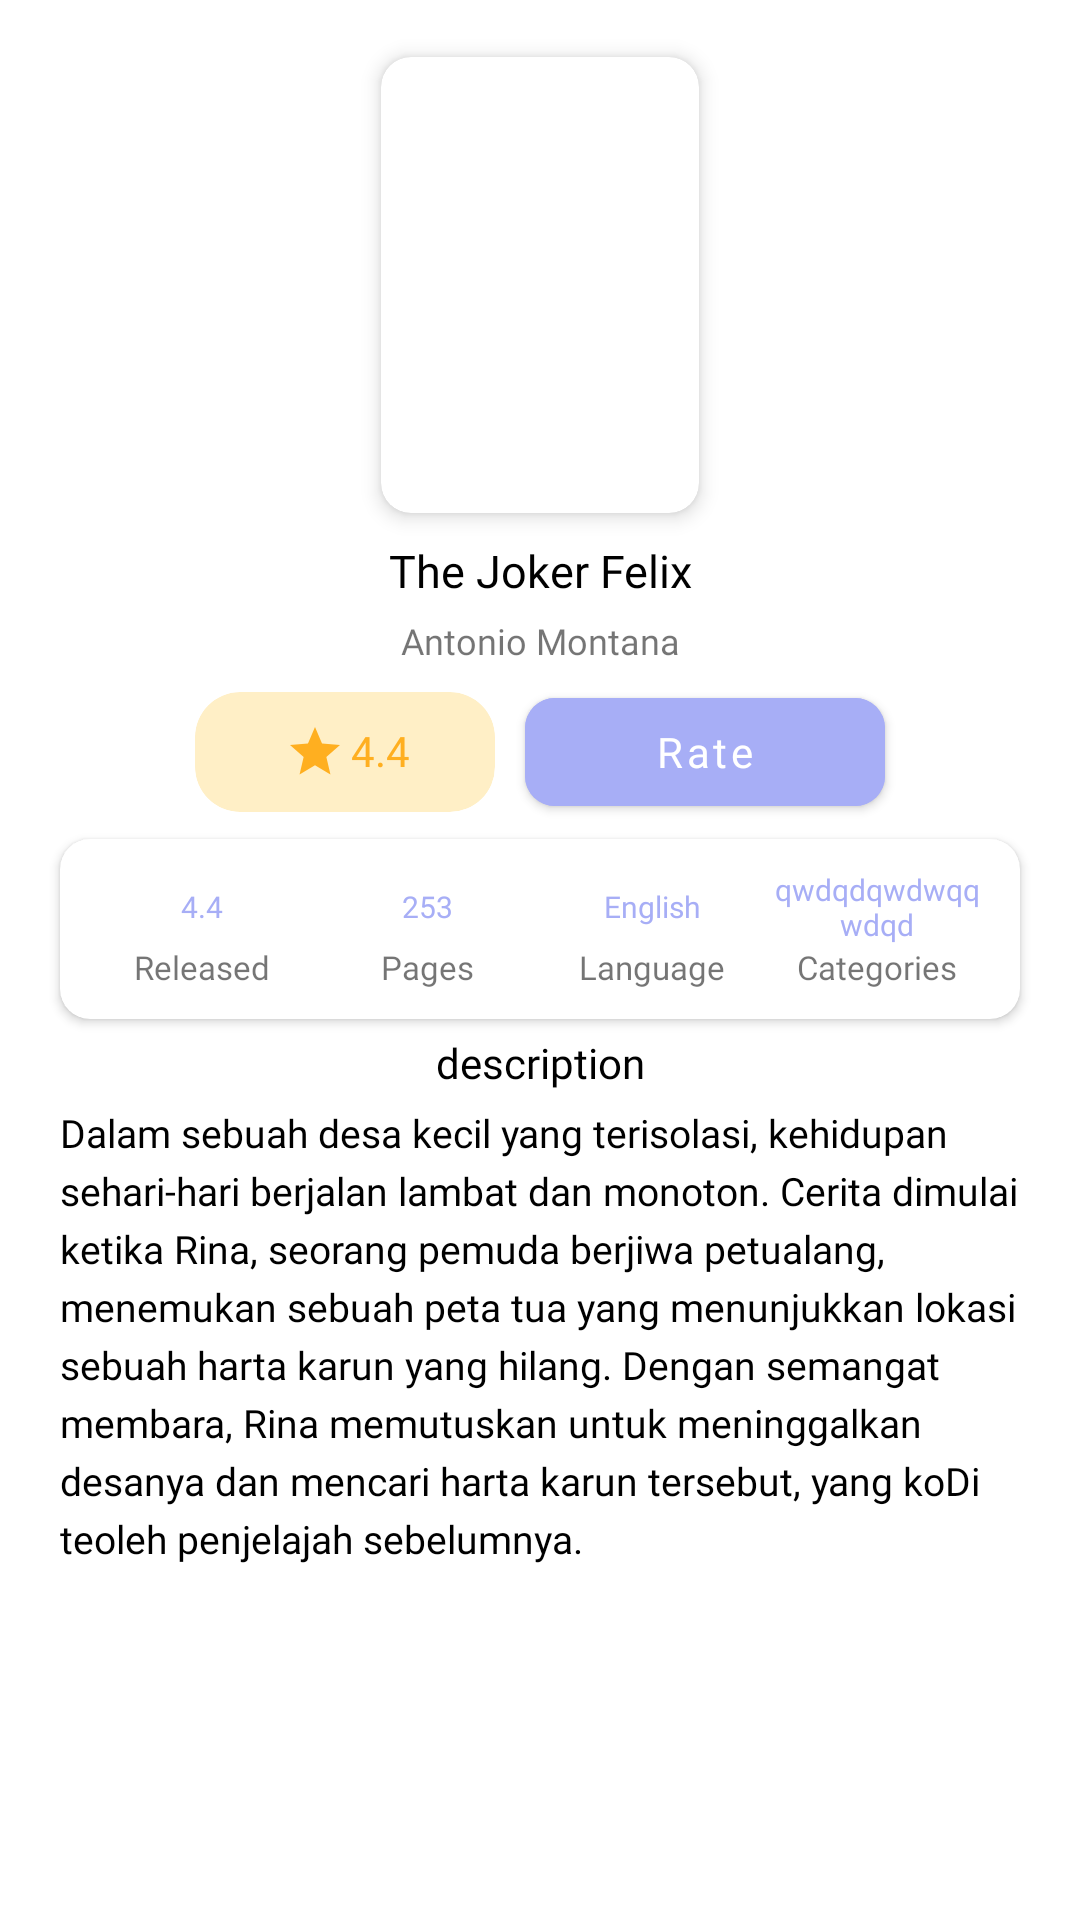

Where to tap for icons on this 1080 x 1920 app screen, as point (x, y):
rating: point (315, 750)
